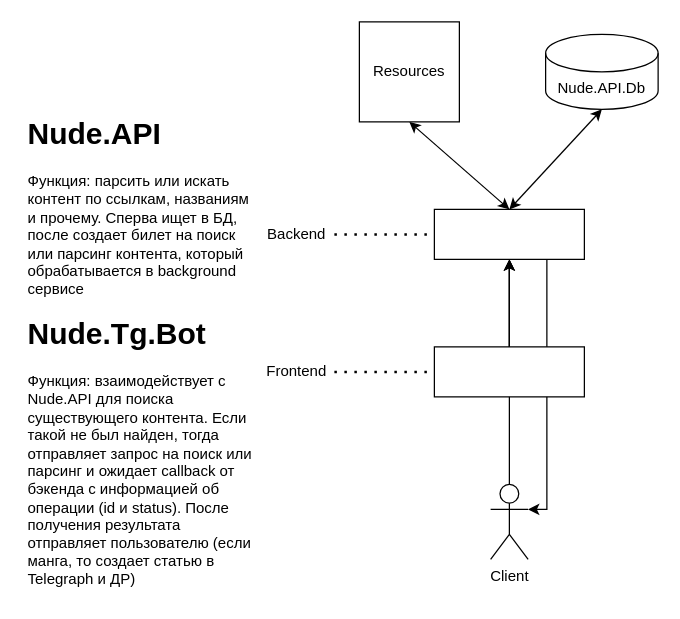
The diagram is 680 pixels wide and 619 high, and some of its shapes have lost their labels. The box of each missing label's shape, as (x1, y1, x2, y2) in pixels:
Nude.API: (433, 208, 584, 259)
Nude.Tg.Bot: (433, 346, 584, 397)
